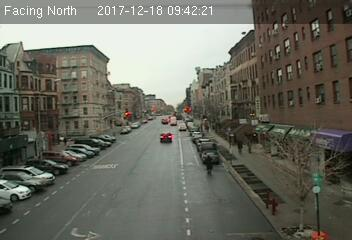car: (200, 149, 220, 162), (158, 132, 172, 142)
pedestrian: (203, 155, 216, 176)
